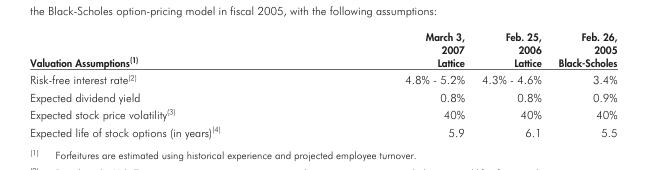table: (29, 29, 616, 138)
table column: (29, 29, 311, 138), (311, 29, 472, 138), (472, 29, 549, 138), (549, 29, 616, 138)
table column header: (29, 29, 616, 70)
table row: (29, 29, 616, 70), (29, 104, 616, 122), (29, 70, 616, 87), (29, 87, 616, 104), (29, 122, 616, 138)
